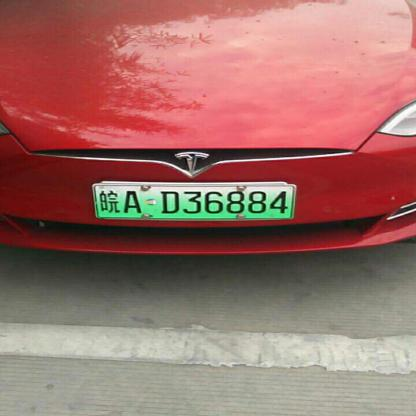lp: (92, 184, 296, 219)
